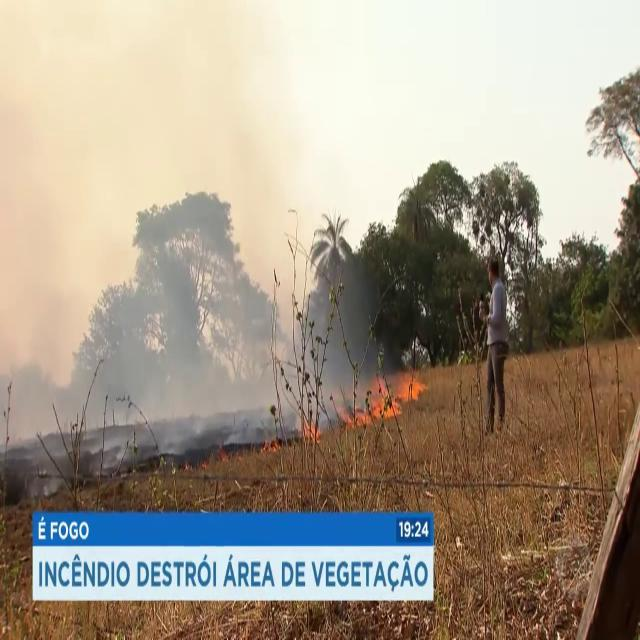Fire: (364, 357, 426, 421)
Smoke: (0, 4, 267, 454)
